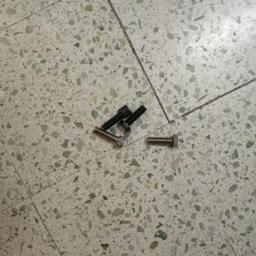screwtype1black: (100, 104, 133, 130)
screwtype1silver: (92, 124, 126, 149)
screwtype2black: (119, 104, 150, 131)
screwtype2silver: (145, 134, 178, 148)
